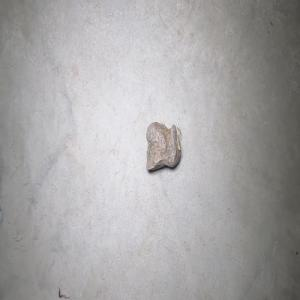Rock: (145, 119, 181, 171)
